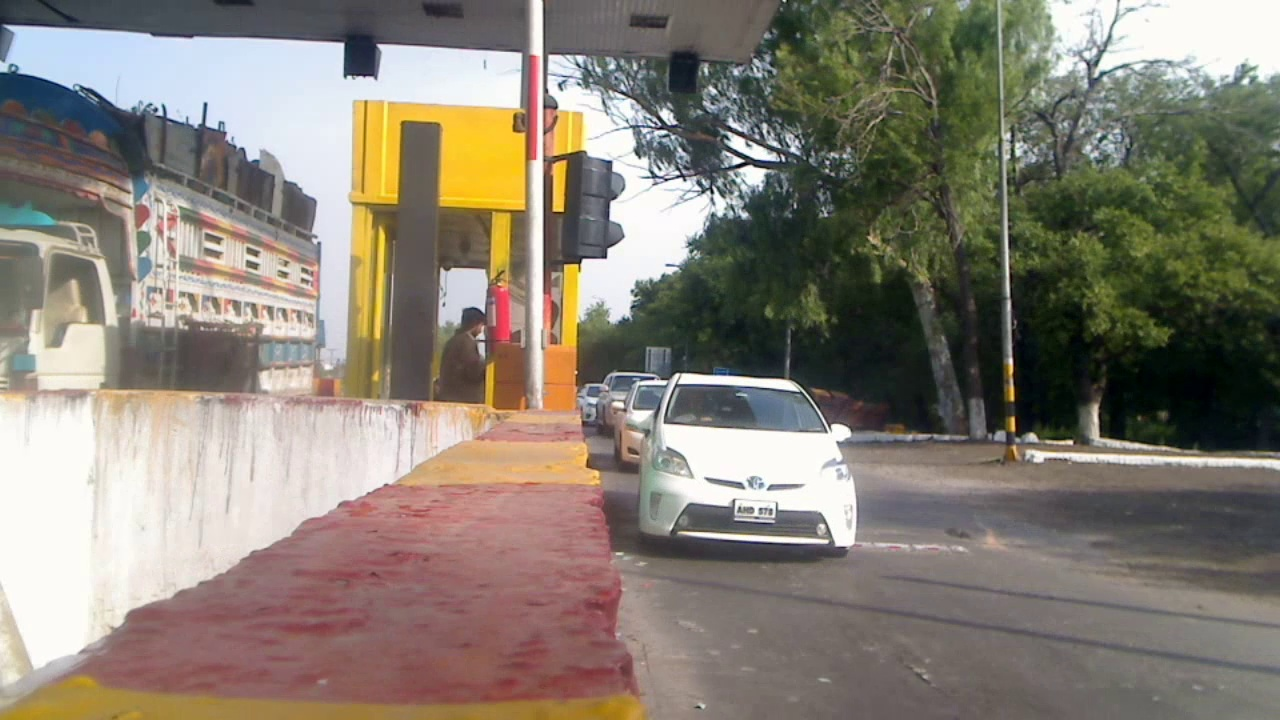Number Plate (Car): (735, 499, 777, 522)
